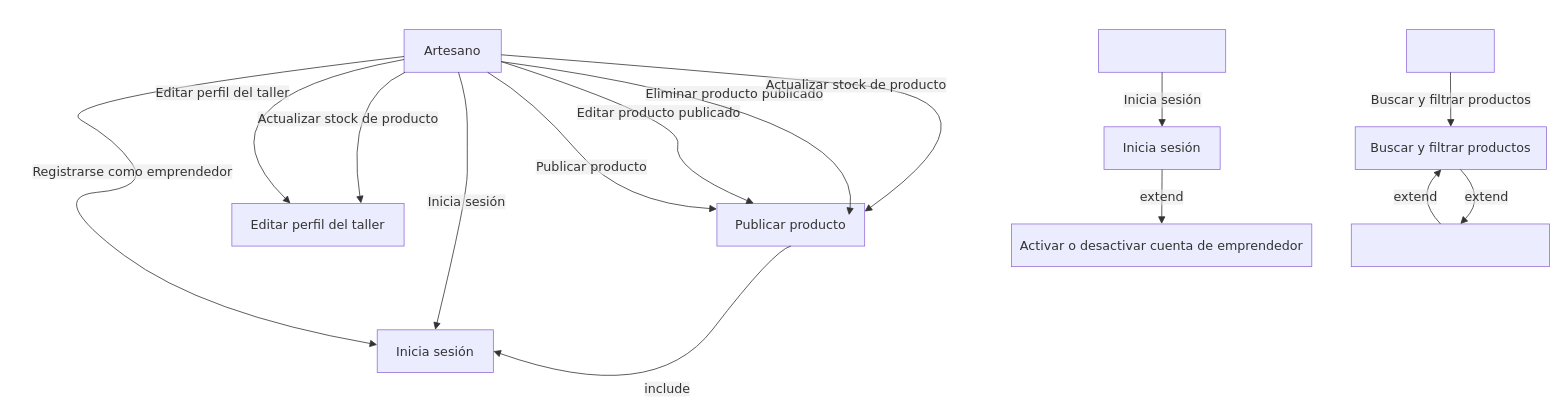
The diagram is 1563 pixels wide and 411 high, and some of its shapes have lost their labels. Here are the shapes that lost their labels. From the top down, the centre of each, then its label:
At point (1162, 50): "Administrador".
At point (1450, 50): "Cliente".
At point (1450, 245): "Consultar catálogo público".
